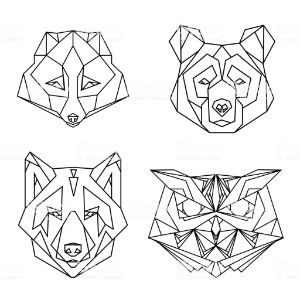bear: (163, 20, 279, 134)
fox: (16, 25, 131, 130)
wolf: (13, 146, 134, 278)
